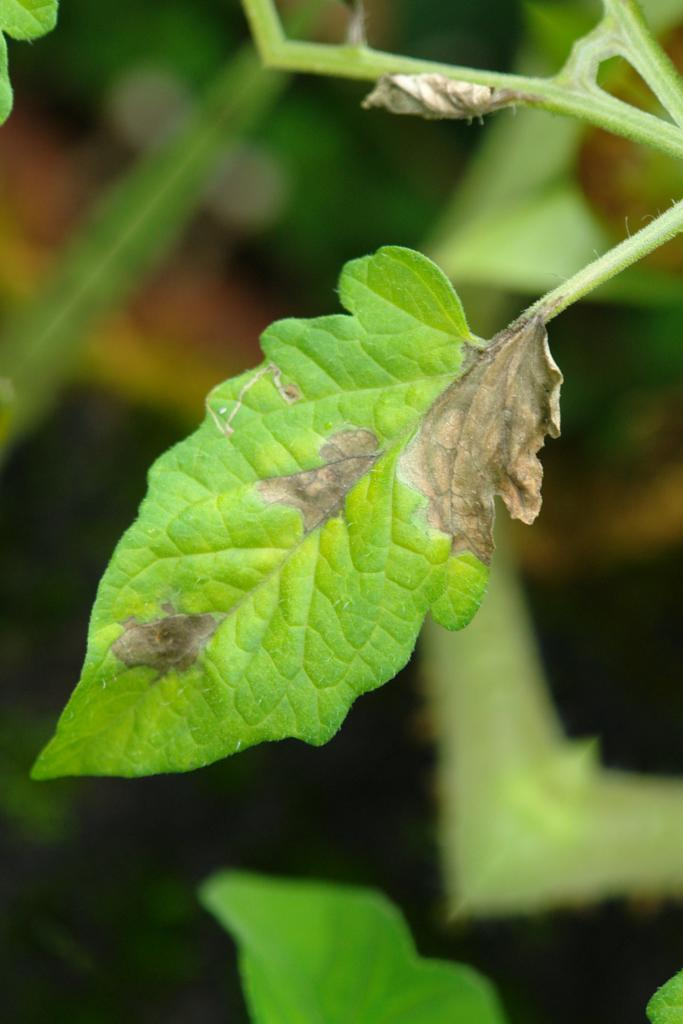Tomato leaf late blight: (0, 178, 653, 949)
